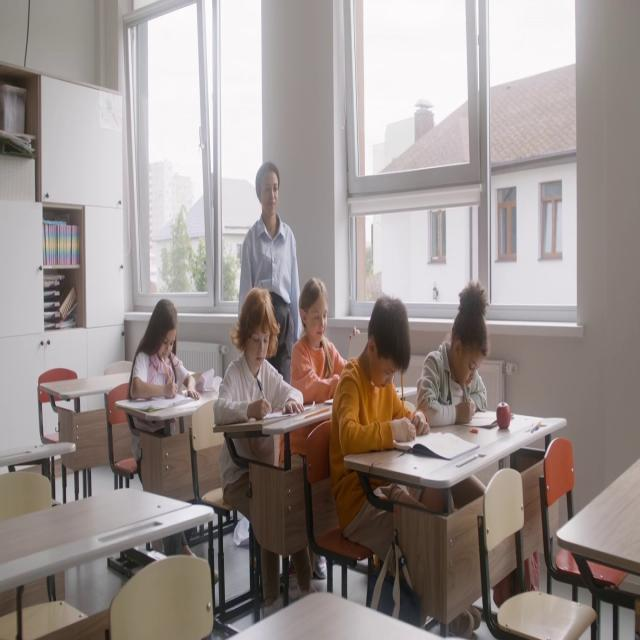writing: (332, 292, 459, 631), (214, 289, 308, 609), (128, 299, 200, 450), (415, 281, 489, 427), (288, 278, 341, 460)
